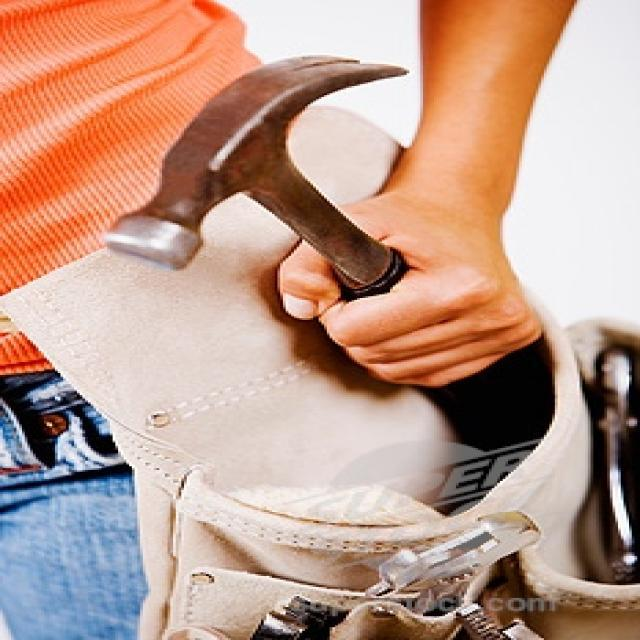hammer: (90, 49, 439, 327)
